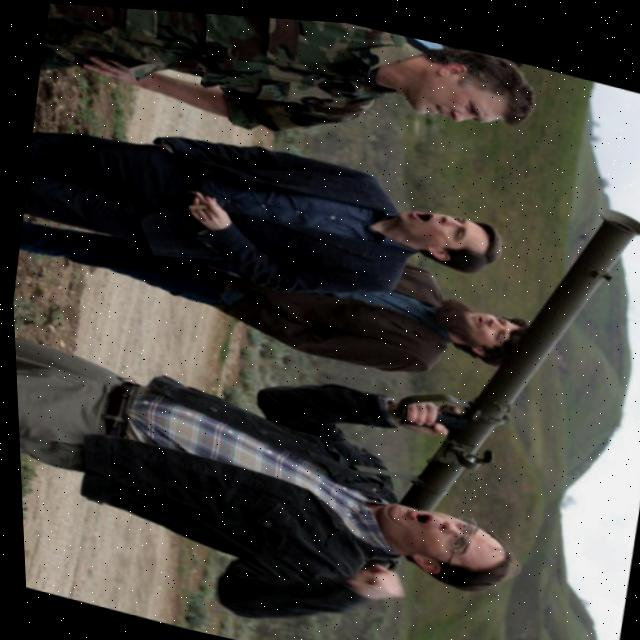rocket: (380, 156, 640, 556)
